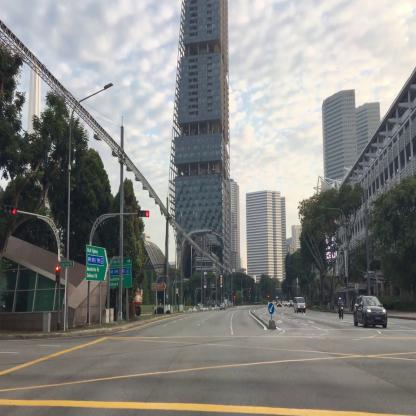red_traffic_light: (138, 210, 149, 216)
